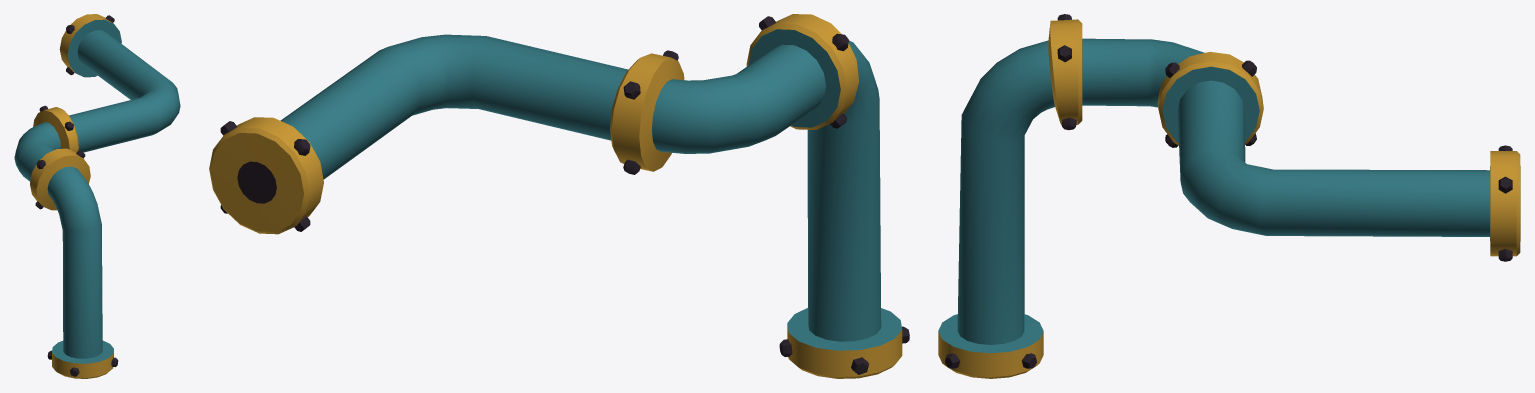
Rendered from PipeRun_01.glb.
3 views of the same model, side by side, from view 1: azimuth 30°, elevation 25°; view 2: azimuth 150°, elevation 25°; view 3: azimuth 270°, elevation 25° (orthographic). The views are drawn at different scales.
Visible parts, largest first — view 1: PipeRun_01; view 2: PipeRun_01; view 3: PipeRun_01.
Part boxes in pixels (<box>): PipeRun_01: <box>14,14,180,378</box>; PipeRun_01: <box>209,14,909,378</box>; PipeRun_01: <box>938,14,1520,378</box>.
Bounding box in the file's own units: 4.11 × 3.64 × 5.74.
